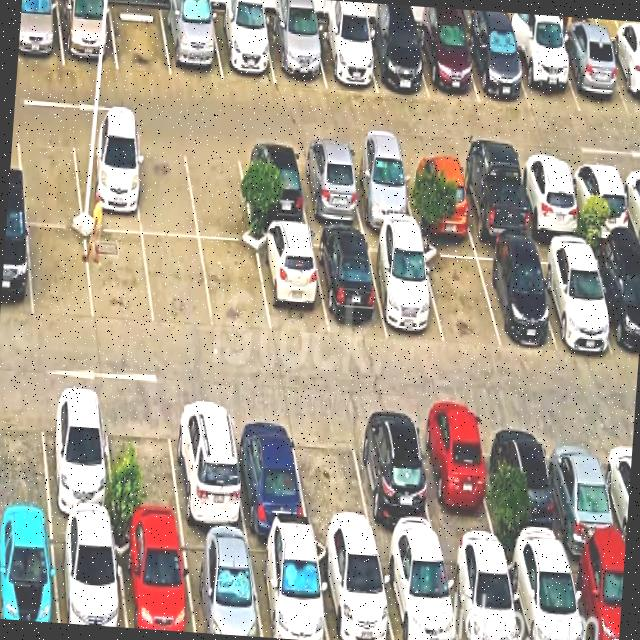empty: (291, 413, 374, 542), (104, 396, 182, 529), (420, 242, 500, 347), (183, 140, 253, 241), (131, 136, 198, 236), (16, 126, 82, 226), (143, 235, 213, 328), (200, 240, 270, 333), (86, 230, 153, 327), (28, 224, 93, 320), (0, 389, 49, 516), (109, 1, 171, 75)
occupied: (351, 416, 439, 546), (417, 418, 499, 551), (544, 425, 624, 555), (168, 401, 246, 533), (230, 406, 309, 535), (40, 390, 115, 523), (491, 421, 566, 552), (533, 243, 615, 352), (180, 531, 262, 637), (115, 526, 194, 632), (366, 236, 444, 343), (248, 536, 328, 640), (474, 244, 555, 346), (52, 520, 126, 627), (314, 540, 393, 640), (255, 229, 328, 335), (311, 232, 386, 335), (377, 547, 458, 640), (441, 548, 521, 640), (504, 551, 584, 640), (72, 131, 141, 232), (456, 156, 530, 241), (0, 518, 58, 622), (402, 153, 473, 236), (589, 245, 640, 360), (555, 36, 629, 115), (238, 144, 308, 227), (295, 146, 364, 228), (346, 149, 416, 229), (509, 34, 580, 112), (567, 160, 634, 241), (516, 158, 583, 239), (464, 27, 530, 107), (566, 553, 624, 640), (415, 25, 479, 102), (363, 25, 429, 98), (211, 10, 275, 84), (161, 5, 223, 80), (312, 21, 377, 92), (57, 0, 117, 69), (265, 18, 325, 86), (0, 218, 32, 317), (17, 0, 63, 65), (606, 41, 640, 116)
